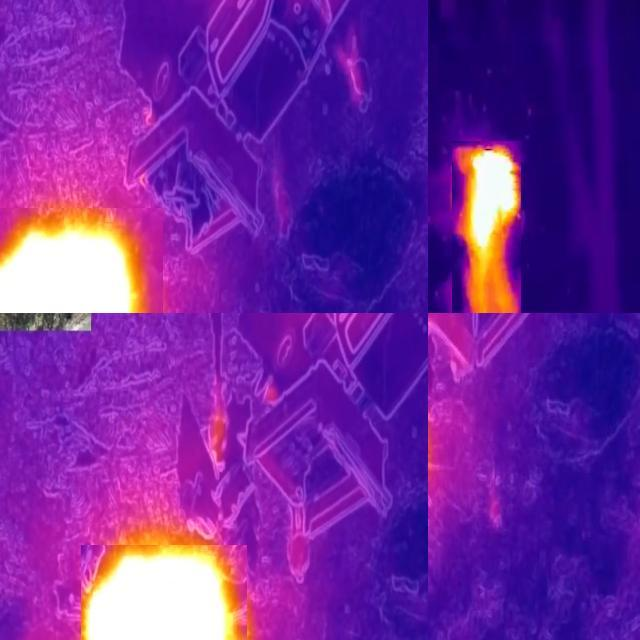fire: (1, 208, 163, 314), (81, 545, 247, 640), (452, 141, 521, 314)
